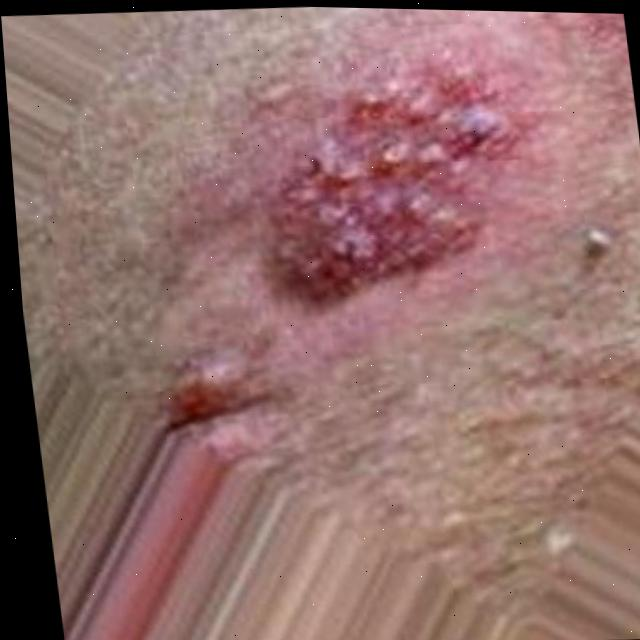Shingles: (253, 77, 520, 321)
